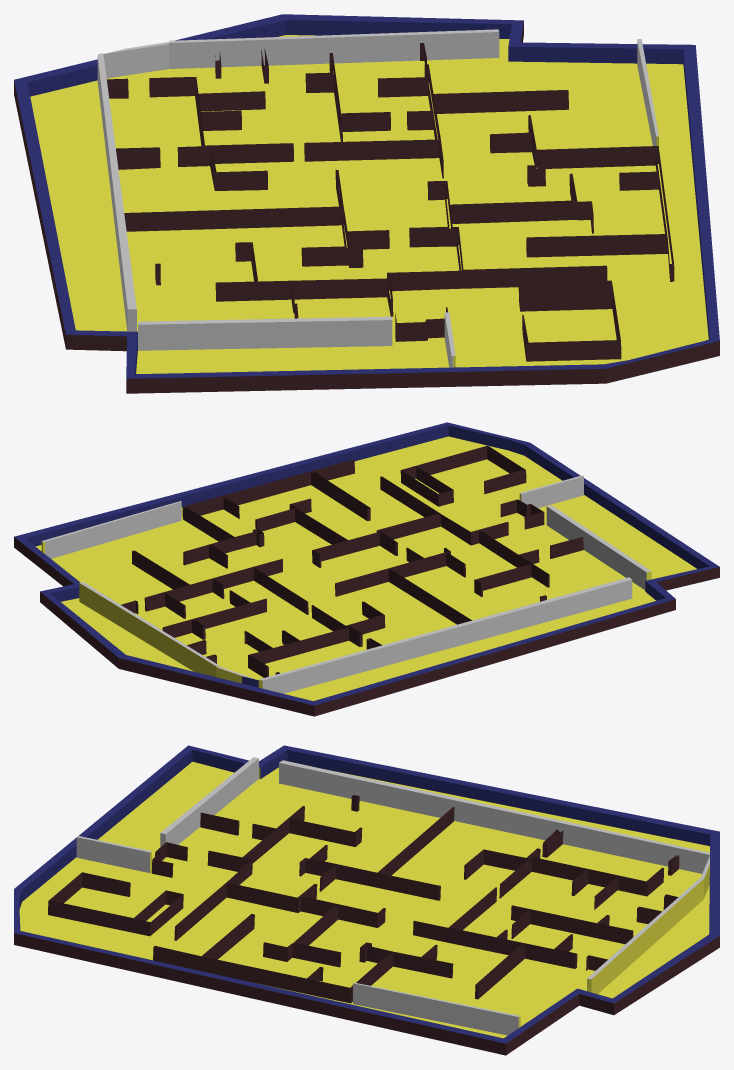
The model's file is ikea_villesa_floor_1.glb.
3 views of the same model, one above another, from view 1: azimuth 30°, elevation 25°; view 2: azimuth 150°, elevation 25°; view 3: azimuth 270°, elevation 25° (orthographic). The views are drawn at different scales.
Visible parts, largest first — view 1: Ways; view 2: Ways; view 3: Ways.
Boxes of the visible parts, left/top/right/bottom form: Ways: left=14, top=14, right=719, bottom=393; Ways: left=14, top=422, right=719, bottom=716; Ways: left=14, top=745, right=719, bottom=1055.
Size of the model in its own units: 119 by 3.83 by 119.
